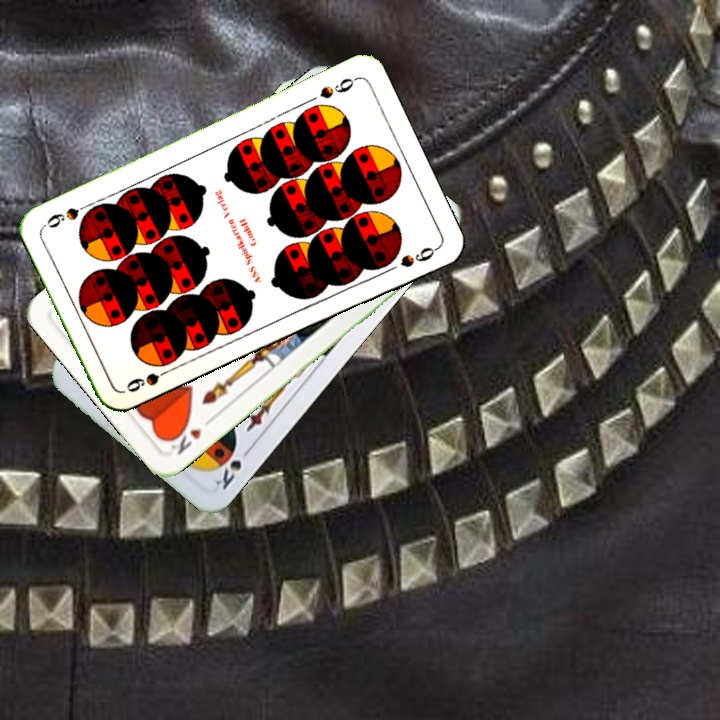HK: (162, 412, 216, 458)
S9: (122, 363, 176, 395), (316, 73, 360, 102)
SK: (211, 441, 255, 493)
